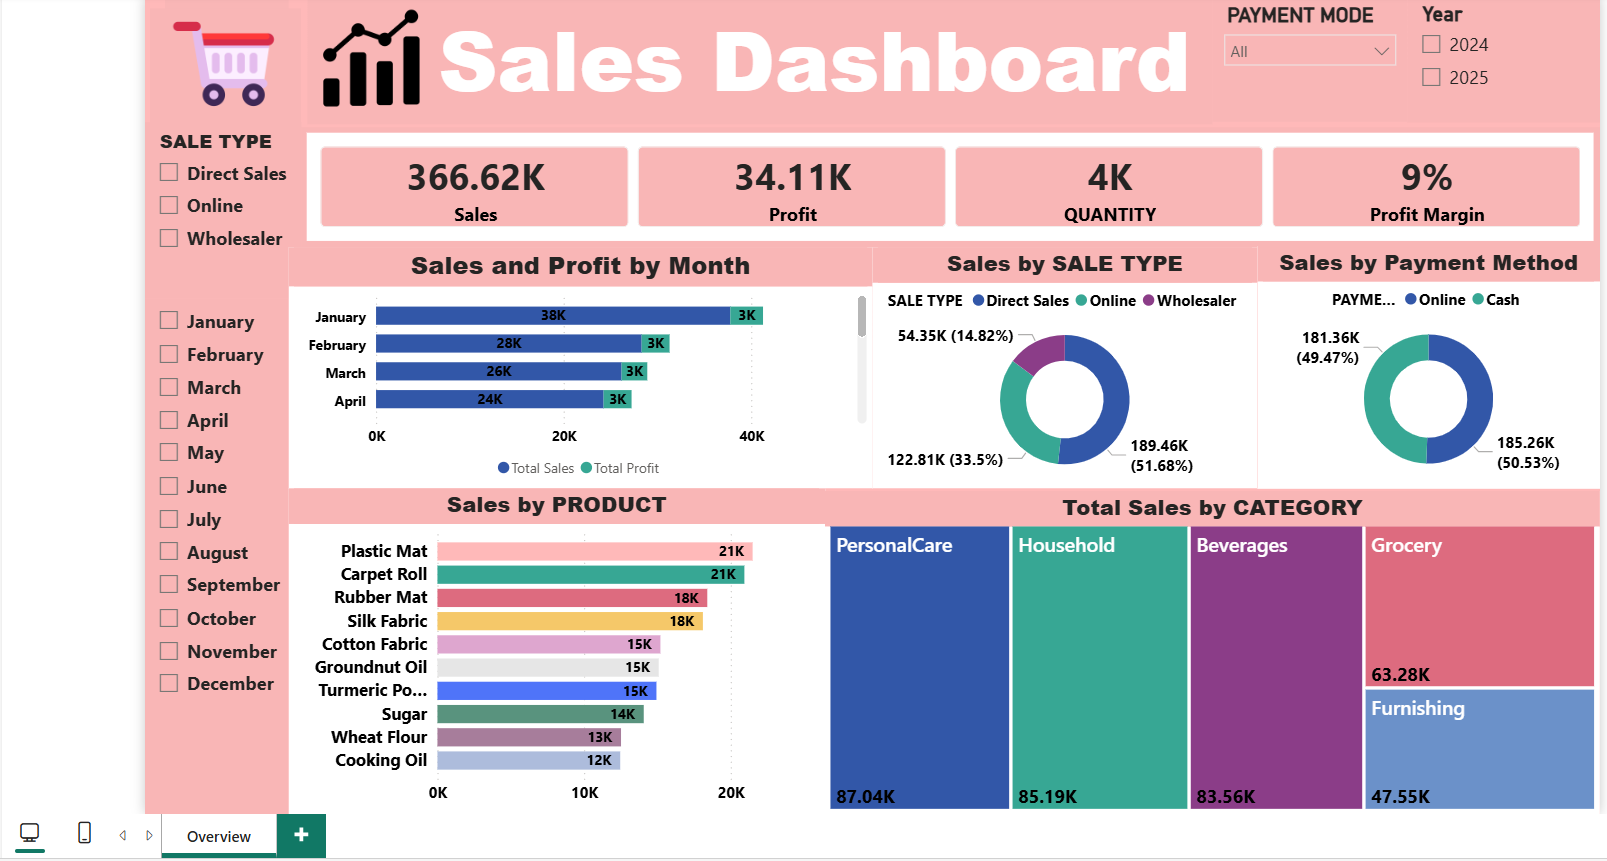

The page's visual inventory and layout, read from the dashboard file:
{"tool":"powerbi","page":{"name":"Overview","canvas":[1280,720],"ordinal":0},"visuals":[{"type":"cardVisual","fields":{"Data":["InputData.Total Sales","InputData.Total Profit","Sum(InputData.QUANTITY)","InputData.Profit Margin"]},"box":[137.4,115.5,1142.5,105.6],"z":0},{"type":"shape","box":[17.8,0,108.4,112.5],"z":1000},{"type":"image","box":[4.1,11,133.1,101.5],"z":2000},{"type":"textbox","box":[142.7,0,795.9,112.5],"z":3000},{"type":"image","box":[153.7,6.9,90.6,96.1],"z":4000},{"type":"slicer","fields":{"Values":["InputData.DATE Hierarchy.Month Name"]},"box":[0,266.1,126.5,454.1],"z":5000},{"type":"slicer","fields":{"Values":["InputData.DATE Hierarchy.Year"]},"box":[1110.1,0,170.2,111.1],"z":6000},{"type":"slicer","fields":{"Values":["InputData.SALE TYPE"]},"box":[0,111.1,137.2,155.1],"z":7000},{"type":"slicer","fields":{"Values":["InputData.PAYMENT MODE"]},"box":[938.6,1.4,171.5,109.8],"z":8000},{"type":"barChart","title":" Sales and Profit by Month","fields":{"Category":["InputData.DATE Hierarchy.Month Name"],"Y":["InputData.Total Sales","InputData.Total Profit"]},"box":[126.5,221,513.5,212.2],"z":9000},{"type":"barChart","title":" Sales by PRODUCT","fields":{"Y":["InputData.Total Sales"],"Category":["MasterData.PRODUCT"]},"box":[126.5,433.2,471.7,287],"z":10000},{"type":"treemap","fields":{"Values":["InputData.Total Sales"],"Group":["MasterData.CATEGORY"]},"box":[598.2,435.4,681.7,284.8],"z":11000},{"type":"donutChart","title":"Sales by SALE TYPE","fields":{"Y":["InputData.Total Sales"],"Category":["InputData.SALE TYPE"]},"box":[640,221,338.7,212.2],"z":12000},{"type":"donutChart","title":"Sales by Payment Method","fields":{"Y":["InputData.Total Sales"],"Category":["InputData.PAYMENT MODE"]},"box":[978.6,219.9,301.3,213.3],"z":13000}]}

Visuals, with their boxes on the page's 1280x720 design canvas (x1, y1, x2, y2). These are canvas units, not pixel positions in the 1607x861 screenshot, which may show the page scaled, cropped or inside an application window:
cardVisual - InputData.Total Sales x InputData.Total Profit: <bbox>137, 116, 1280, 221</bbox>
shape: <bbox>18, 0, 126, 112</bbox>
image: <bbox>4, 11, 137, 112</bbox>
textbox: <bbox>143, 0, 939, 112</bbox>
image: <bbox>154, 7, 244, 103</bbox>
slicer - InputData.DATE Hierarchy.Month Name: <bbox>0, 266, 126, 720</bbox>
slicer - InputData.DATE Hierarchy.Year: <bbox>1110, 0, 1280, 111</bbox>
slicer - InputData.SALE TYPE: <bbox>0, 111, 137, 266</bbox>
slicer - InputData.PAYMENT MODE: <bbox>939, 1, 1110, 111</bbox>
" Sales and Profit by Month" barChart: <bbox>126, 221, 640, 433</bbox>
" Sales by PRODUCT" barChart: <bbox>126, 433, 598, 720</bbox>
treemap - InputData.Total Sales x MasterData.CATEGORY: <bbox>598, 435, 1280, 720</bbox>
"Sales by SALE TYPE" donutChart: <bbox>640, 221, 979, 433</bbox>
"Sales by Payment Method" donutChart: <bbox>979, 220, 1280, 433</bbox>
